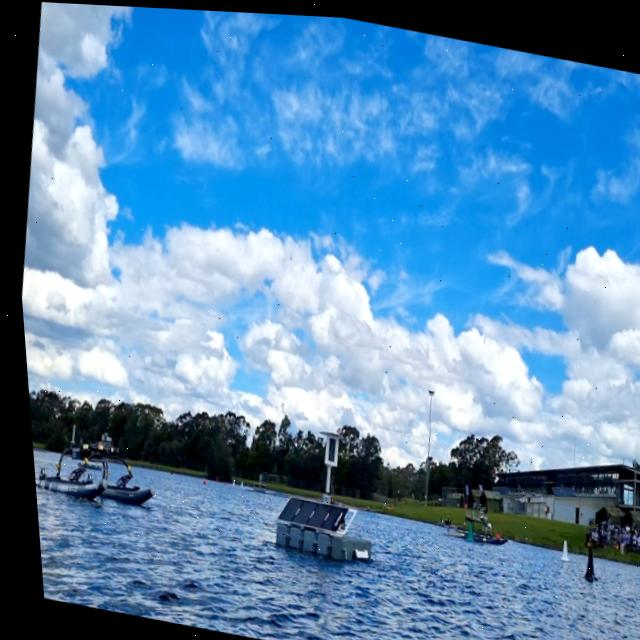led: (318, 431, 333, 462)
